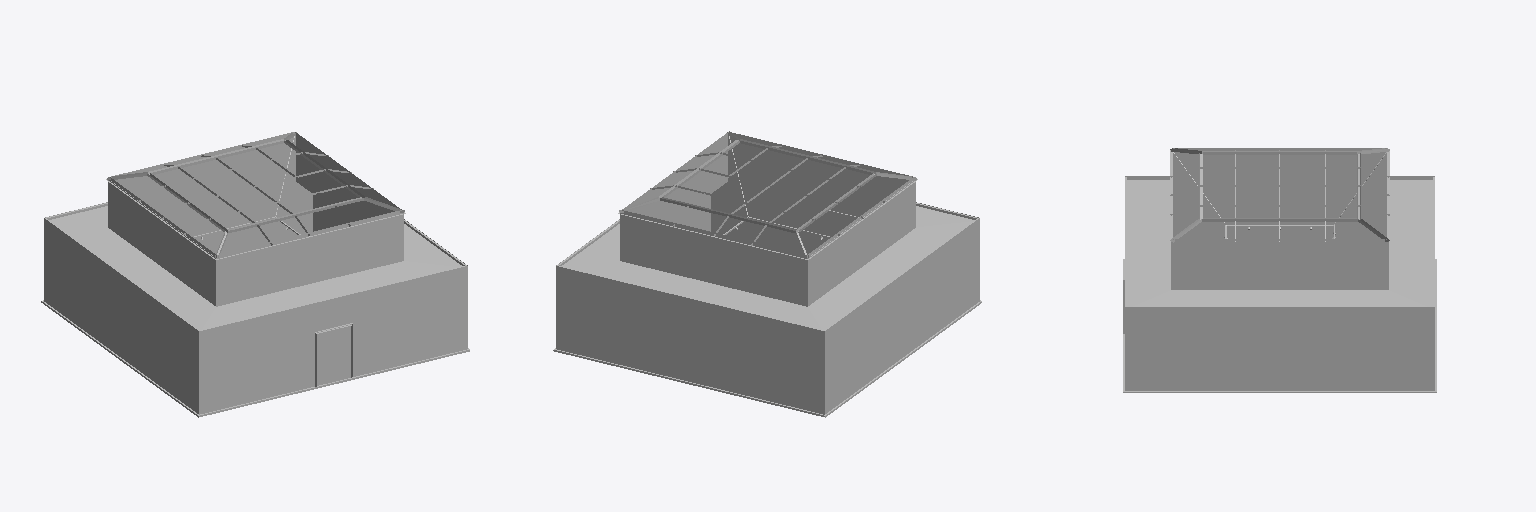
The model's file is otra.obj.
The picture shows the model from 3 angles: view 1: azimuth 30°, elevation 25°; view 2: azimuth 150°, elevation 25°; view 3: azimuth 270°, elevation 25°; orthographic projection.
Parts seen in each view (by area): view 1: VR_Gallery_VR_Gallery_0; view 2: VR_Gallery_VR_Gallery_0; view 3: VR_Gallery_VR_Gallery_0.
Boxes of the visible parts, box(x1,y1,x2,y2) form: VR_Gallery_VR_Gallery_0: box(41, 132, 469, 417); VR_Gallery_VR_Gallery_0: box(553, 131, 981, 417); VR_Gallery_VR_Gallery_0: box(1123, 148, 1436, 392).
Bounding box in the file's own units: 10.12 × 5.05 × 10.12.